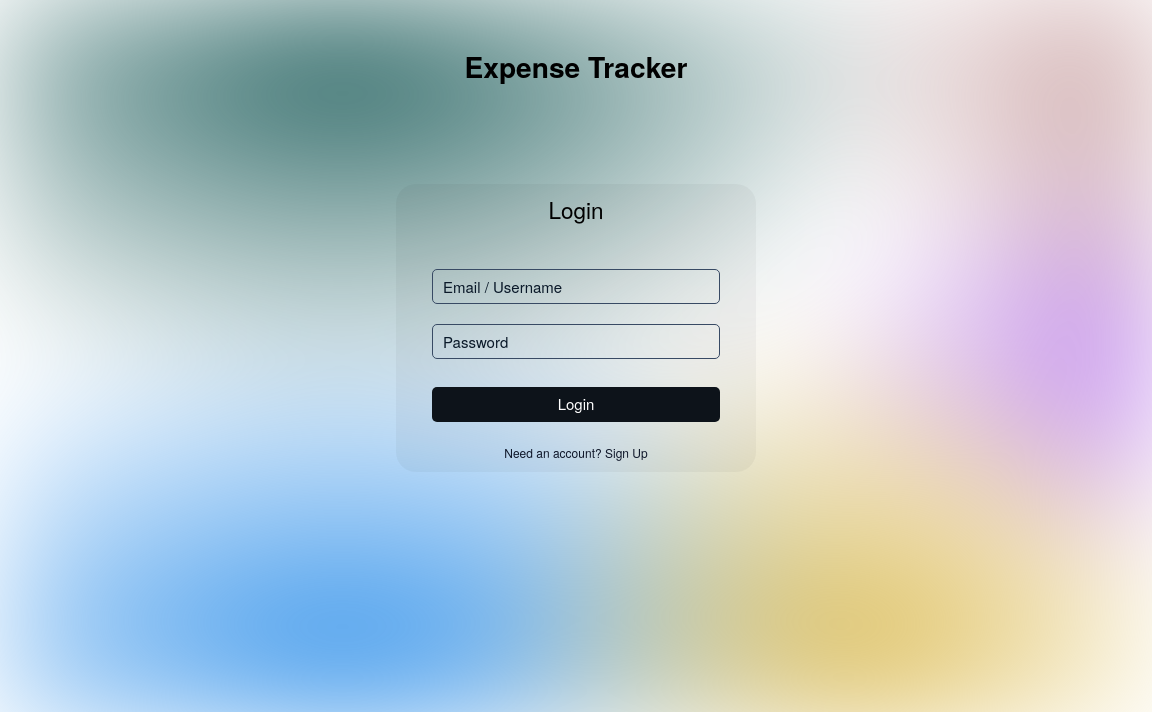
Scenario: Login Page › should login with valid credentials
In the field named "email": x=576, y=287 [432, 269, 720, 304], type "anas"
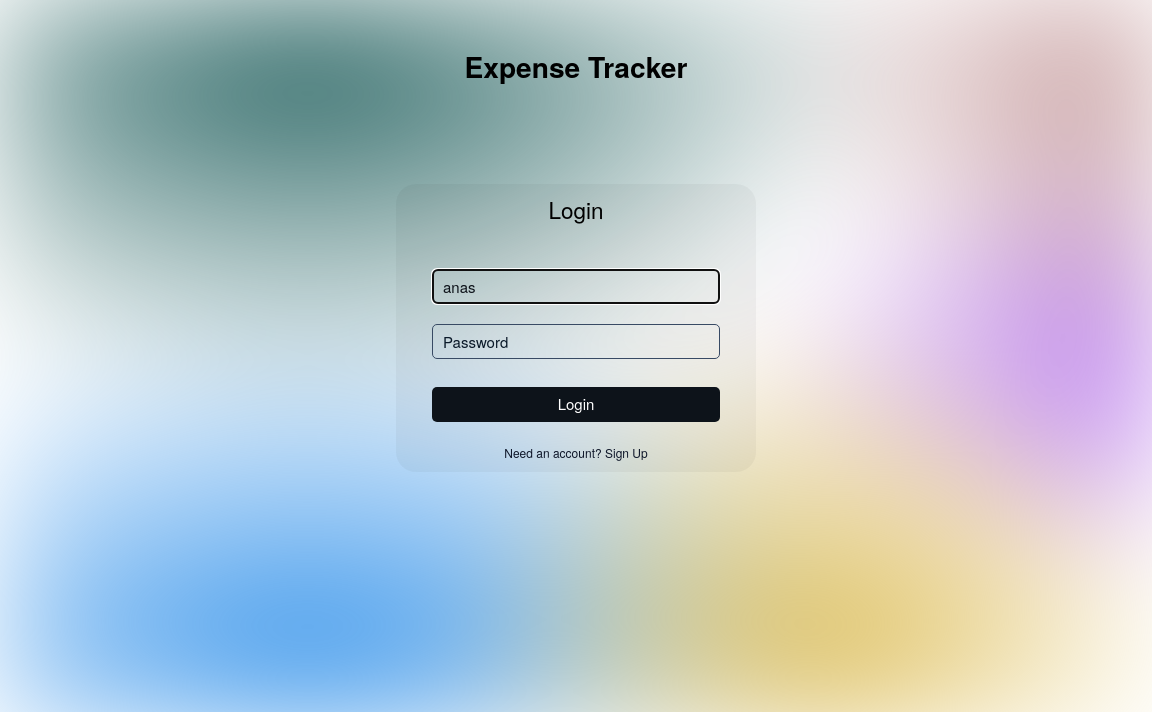
In the field named "password": x=576, y=342 [432, 324, 720, 359], type "0000"
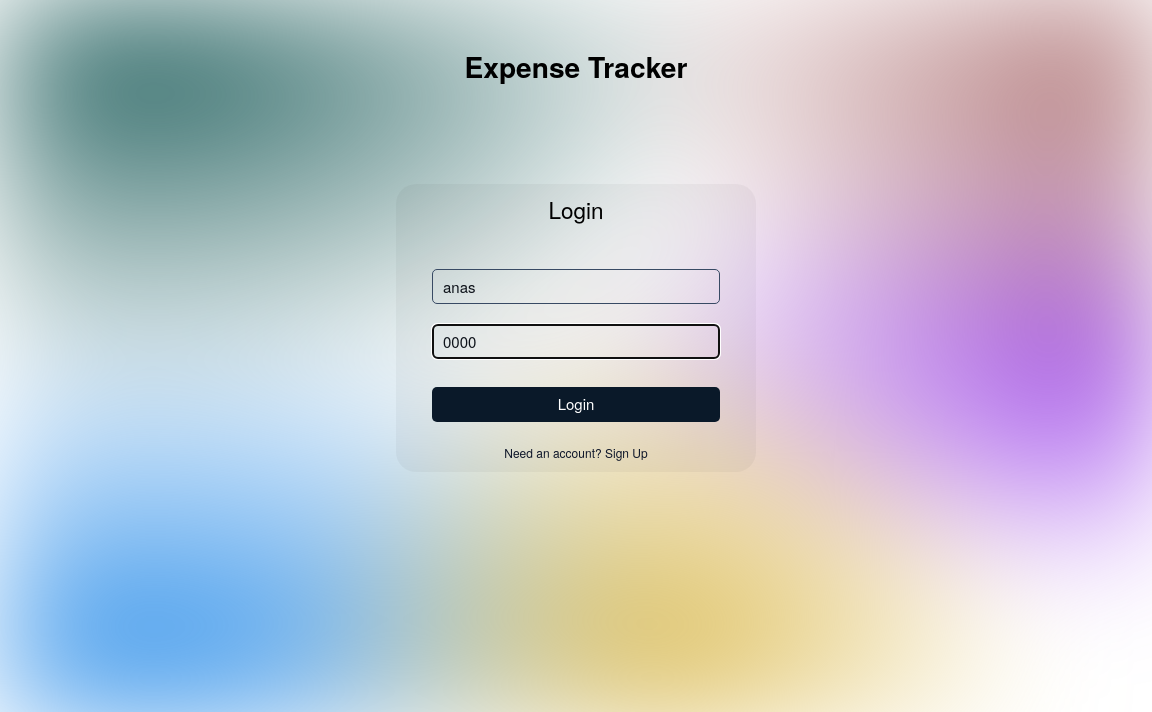
Click the submit button: x=576, y=405 [432, 387, 720, 422]
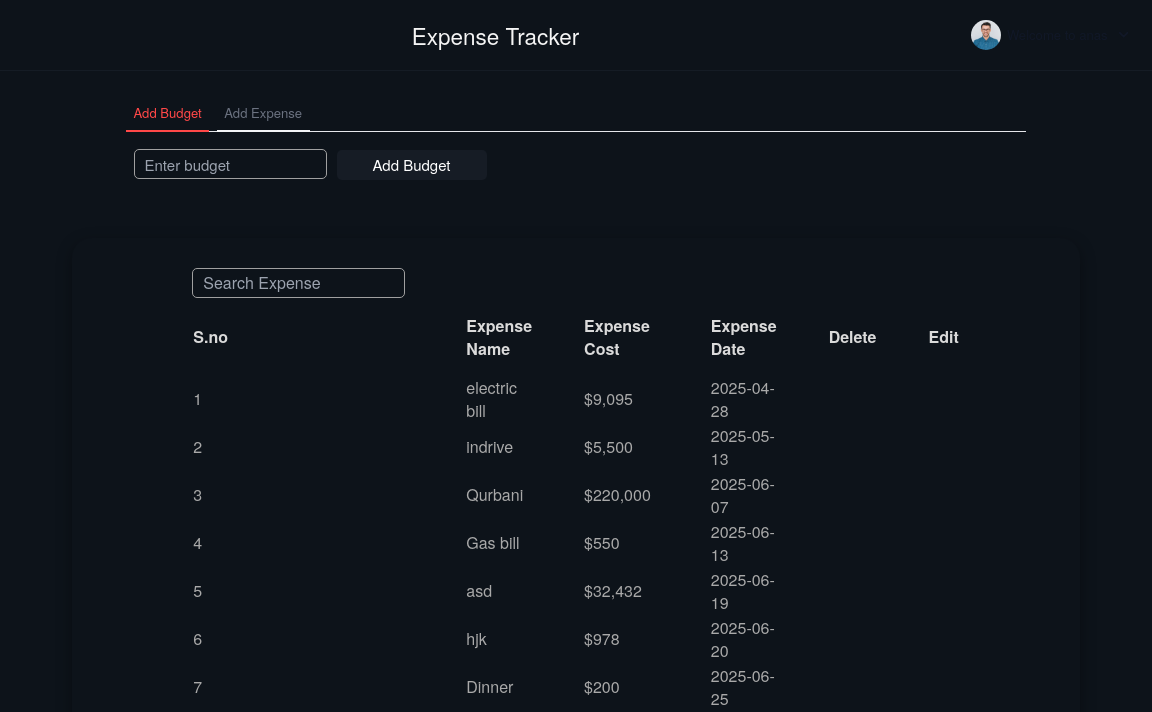
Expected: the button "Welcome to anas" is shown, [971, 20, 1132, 50]
